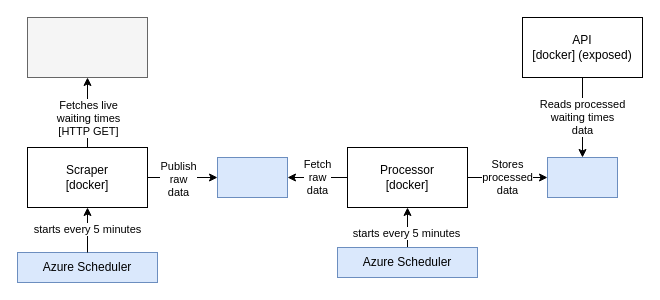
This 660x300 diagram has some shape labels left out. The centre of each missing label's shape, as x and y in pixels:
"Azure Data Table" goes at point 582,177.
"Azure Service Bus" goes at point 252,177.
"Looopings [external source]" goes at point 87,47.
